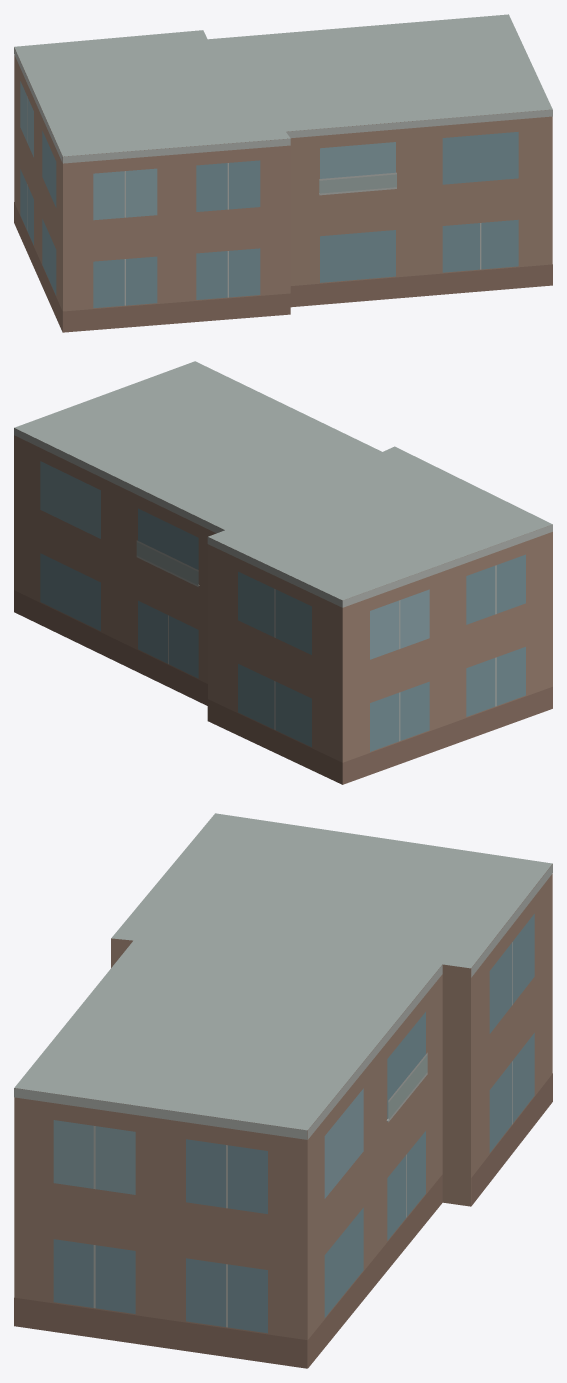
The model's file is survey-upis-32583242.glb.
The picture shows the model from 3 angles, top to bottom: view 1: azimuth 30°, elevation 25°; view 2: azimuth 150°, elevation 25°; view 3: azimuth 270°, elevation 25°; orthographic projection. The views are drawn at different scales.
Visible parts, largest first — view 1: survey-upis-32583242.tmp; view 2: survey-upis-32583242.tmp; view 3: survey-upis-32583242.tmp.
Part boxes in pixels (x1,y1,x2,y2): survey-upis-32583242.tmp: (14,14,552,332); survey-upis-32583242.tmp: (14,361,552,784); survey-upis-32583242.tmp: (14,813,552,1368).
Bounding box in the file's own units: 17.43 × 6.1 × 12.51.
